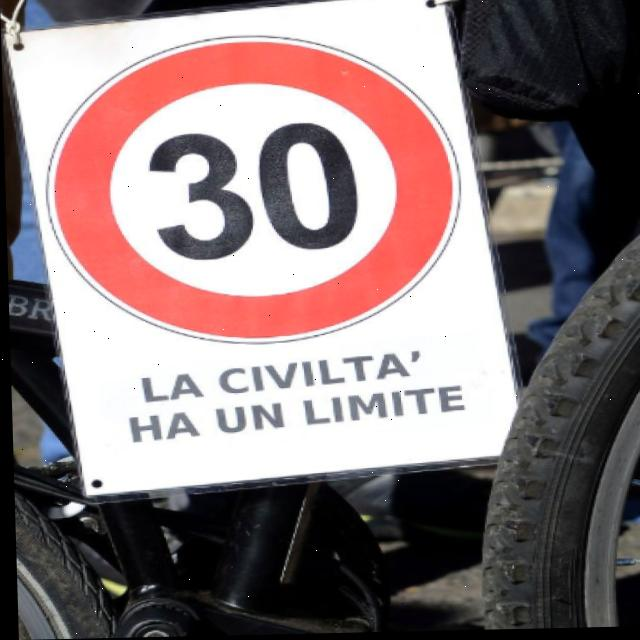Speed limit 30: (39, 32, 466, 349)
